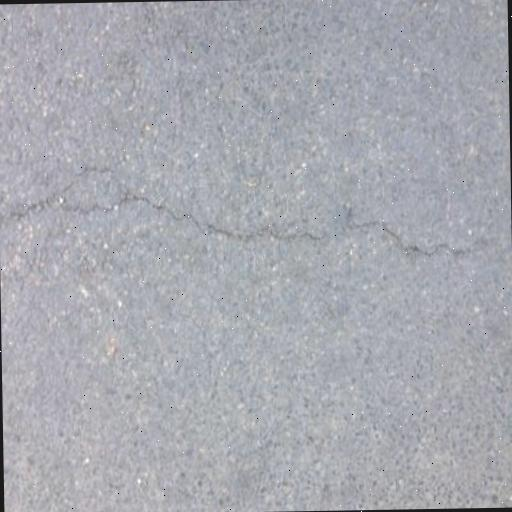spalling: (7, 153, 488, 278)
